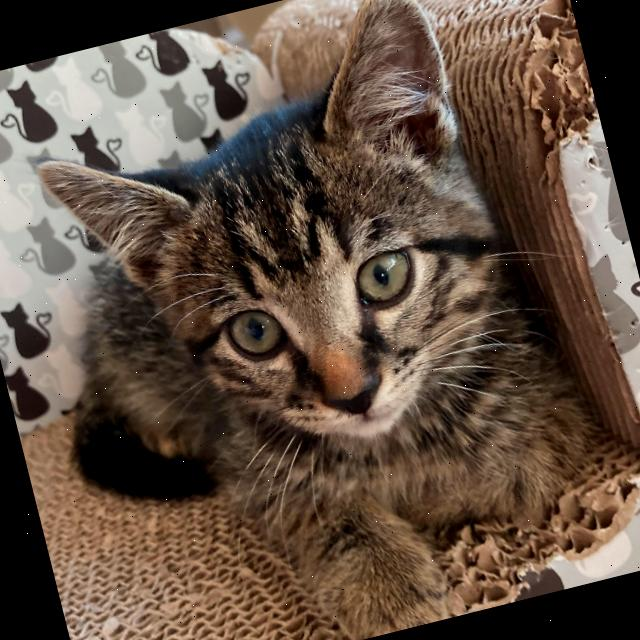american_shorthair_cat: (5, 0, 551, 516)
